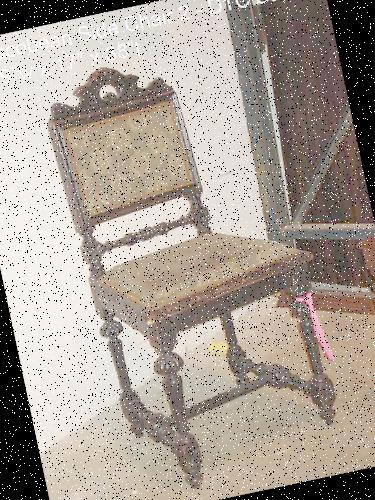Mesa: (32, 29, 359, 498)
